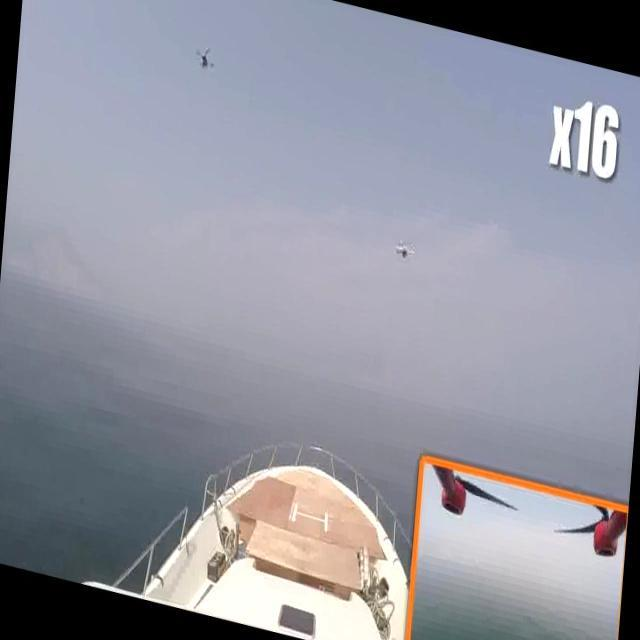drone: (389, 231, 419, 269), (190, 40, 220, 78)
